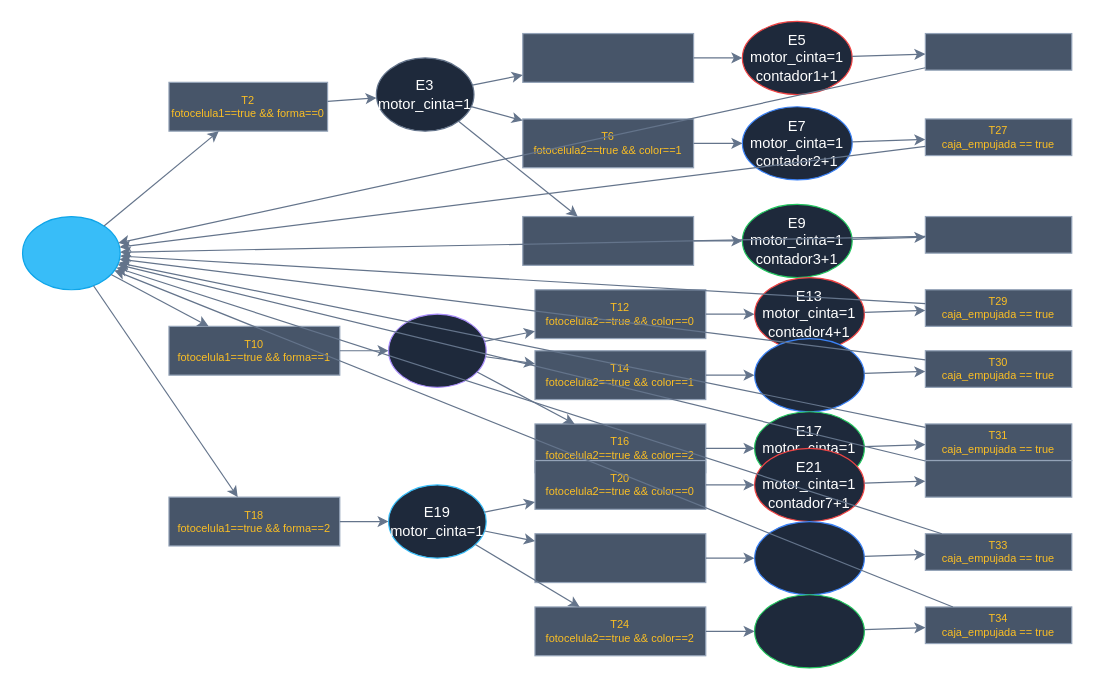
Image size: 1093x689. Some labels were removed from this diagram. Each missing label, with the centre of its shape:
"E1 motor_cinta=1" belongs at [70,252].
"E11 motor_cinta=1" belongs at [436,350].
"E15 motor_cinta=1 contador5+1" belongs at [808,374].
"E23 motor_cinta=1 contador8+1" belongs at [808,557].
"E25 motor_cinta=1 contador9+1" belongs at [808,631].
"T22 fotocelula2==true && color==1" belongs at [620,558].
"T26 caja_empujada == true" belongs at [998,51].
"T28 caja_empujada == true" belongs at [998,234].
"T32 caja_empujada == true" belongs at [998,478].
"T4 fotocelula2==true && color==0" belongs at [608,57].
"T8 fotocelula2==true && color==2" belongs at [608,240].
